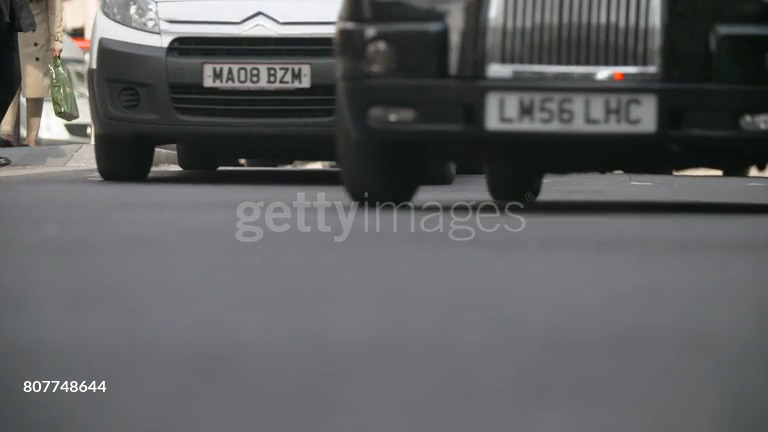car number: (484, 91, 657, 130), (200, 62, 310, 89)
